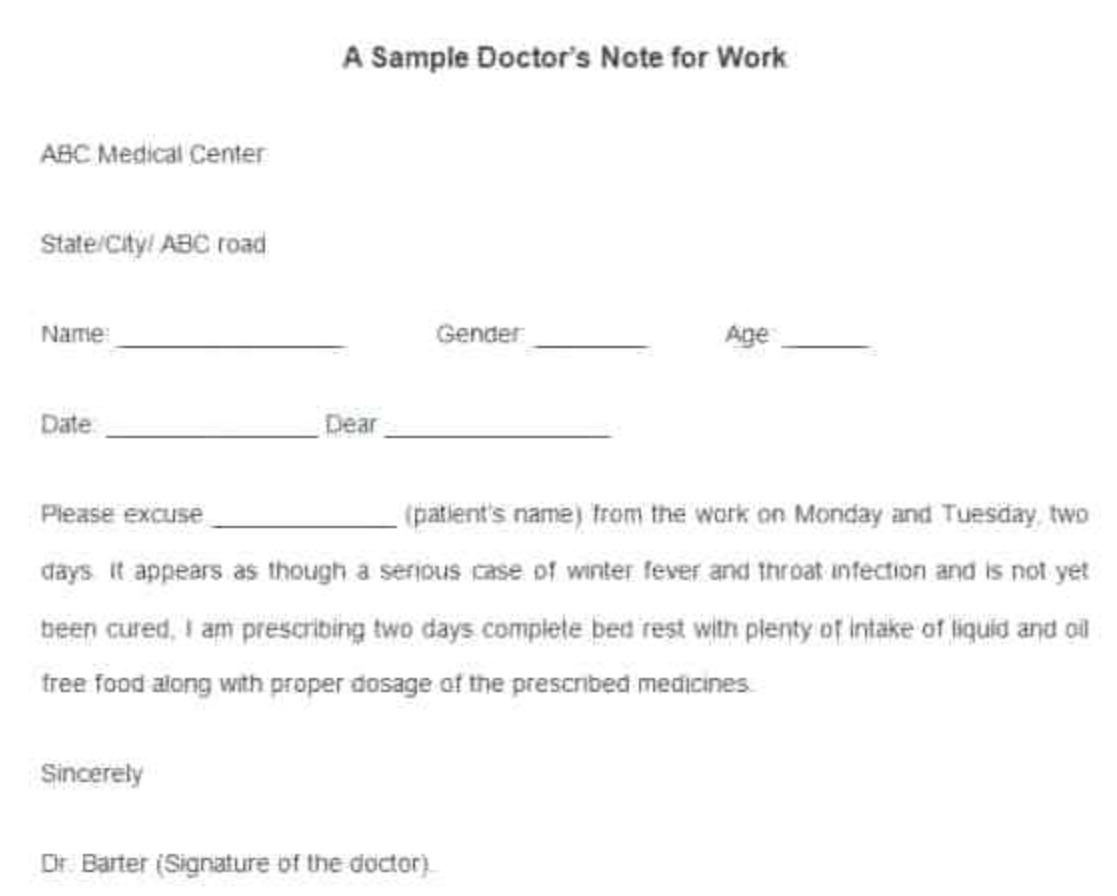textline: (110, 315, 356, 355), (382, 410, 616, 444), (100, 410, 321, 444), (202, 497, 401, 532), (525, 314, 659, 355), (776, 315, 879, 358)
